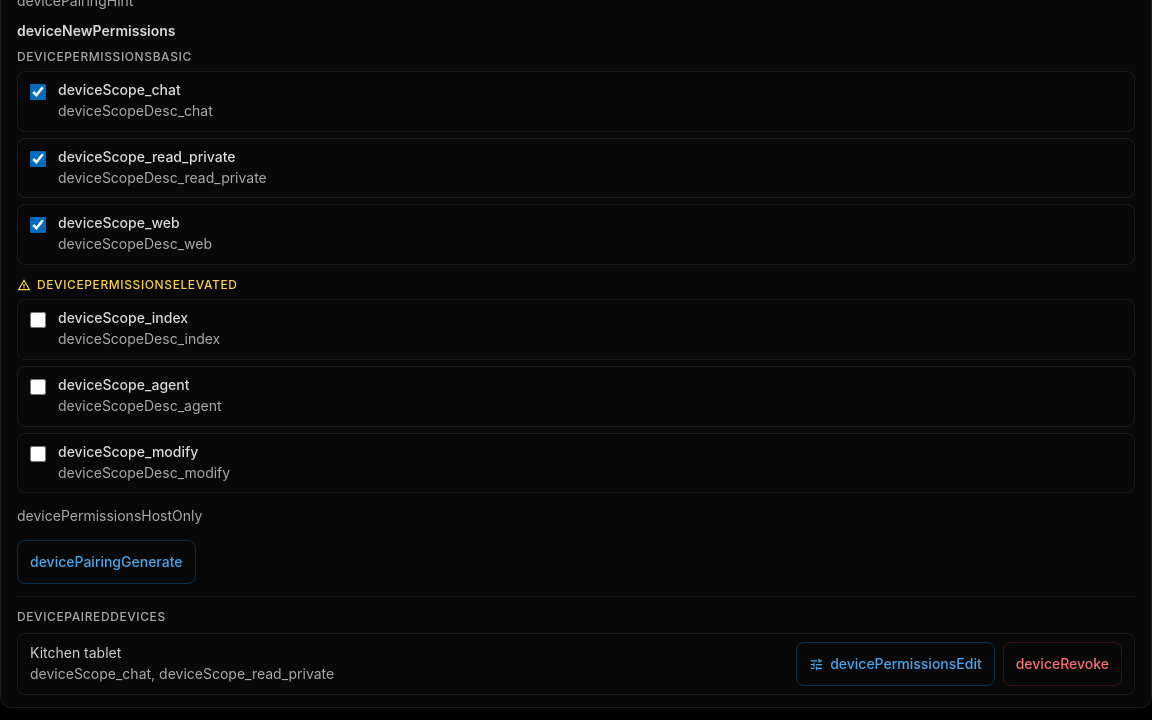
Scenario: DevicePairingCard › per-device permissions › edits one authorized device and saves only after confirming new elevated permissions
(page scrolled)
Step 1. Click the button with aria-label "devicePermissionsFor Kitchen tablet" → (895, 664), box top-left (796, 642), bottom-right (995, 686)
(page scrolled)
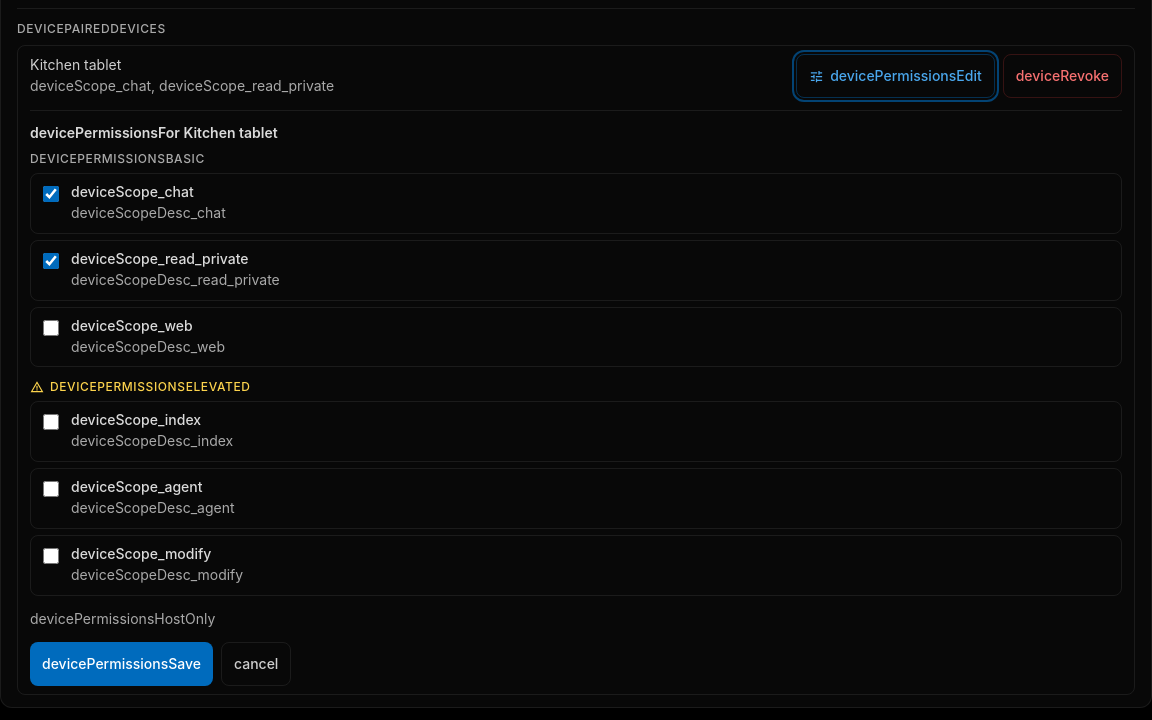
Expected: the checkbox labelled "deviceScope_chat deviceScopeDesc_chat" is checked, top-left (43, 186), bottom-right (59, 202)
Expected: the button with aria-label "devicePermissionsFor Kitchen tablet" is expanded, top-left (796, 54), bottom-right (995, 98)
Step 2. Click the checkbox labelled "deviceScope_index deviceScopeDesc_index" → (51, 422), box top-left (43, 414), bottom-right (59, 430)
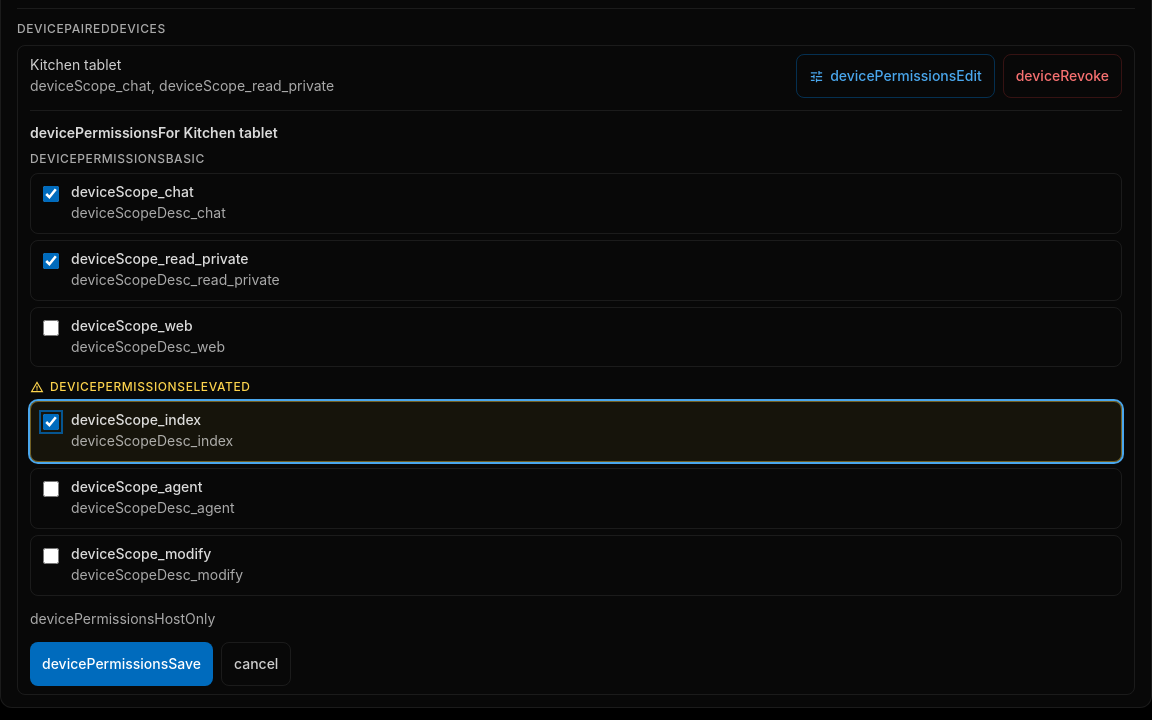
Step 3. Click the button "devicePermissionsSave" → (122, 664), box top-left (30, 642), bottom-right (213, 686)
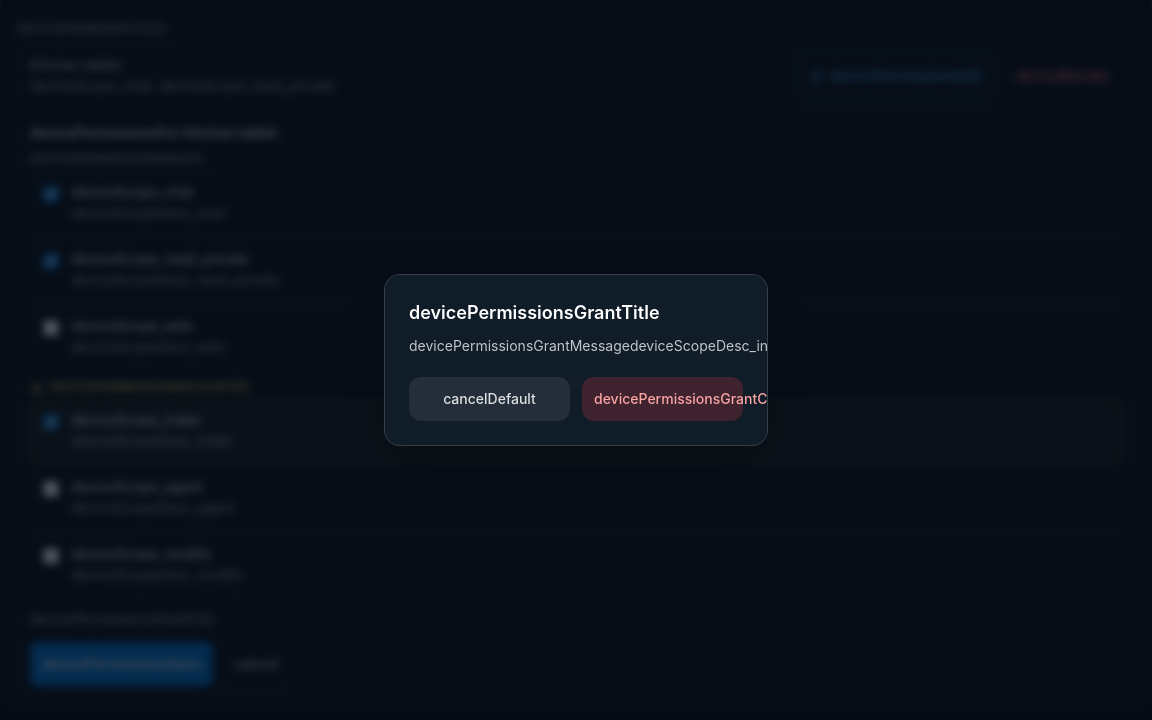
Step 4. Click the button "devicePermissionsGrantConfirm" → (662, 399), box top-left (582, 377), bottom-right (743, 421)
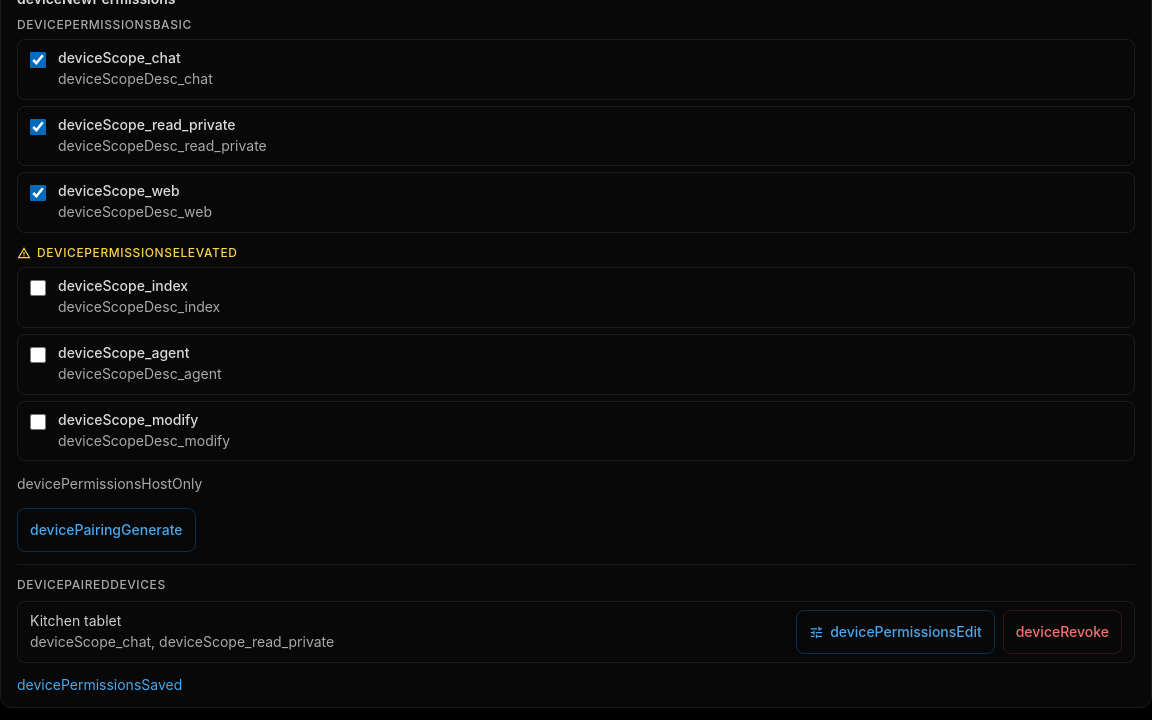
Expected: the message reads "devicePermissionsSaved", top-left (17, 676), bottom-right (182, 693)
Expected: the text "devicePermissionsFor Kitchen tablet" is gone
